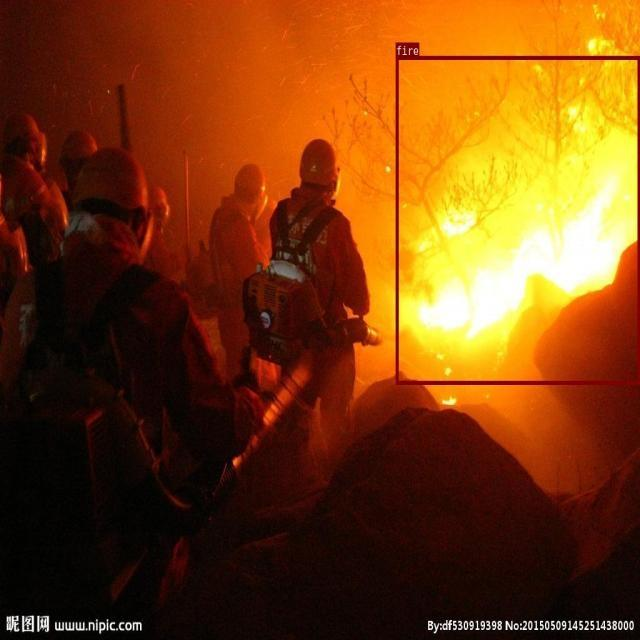fire: (396, 55, 640, 384)
